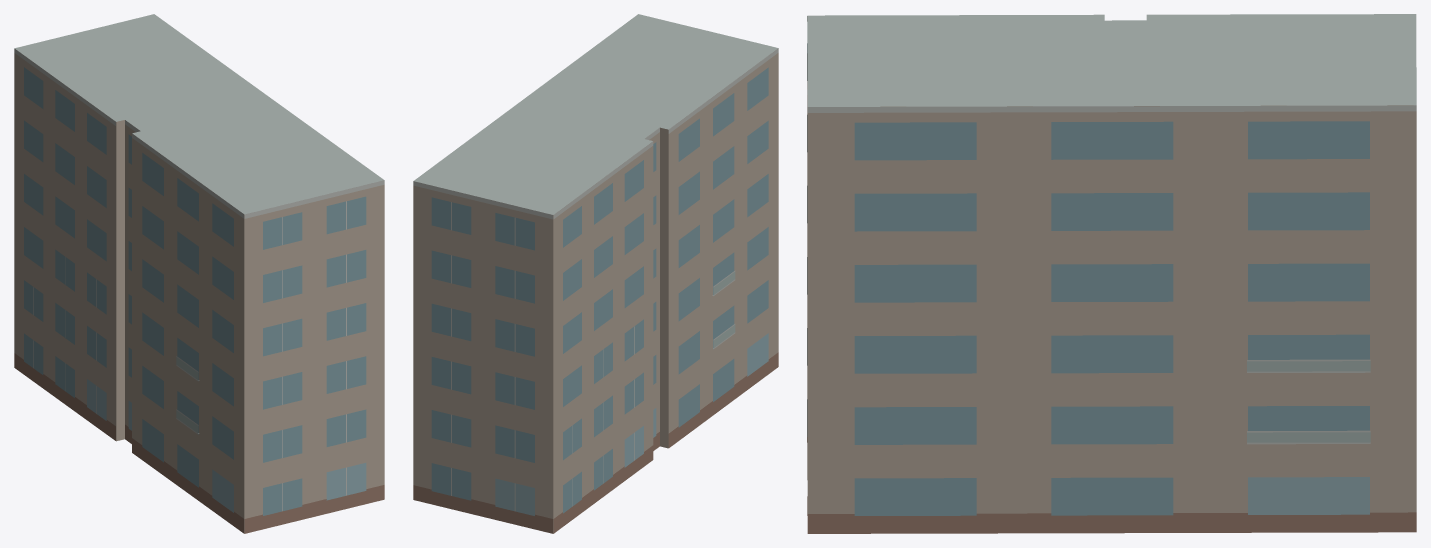
File: survey-upis-32744048.glb
3 renders of one model, left to right at view 1: azimuth 30°, elevation 25°; view 2: azimuth 150°, elevation 25°; view 3: azimuth 270°, elevation 25°, orthographic. The views are drawn at different scales.
Visible parts, largest first — view 1: survey-upis-32744048.tmp; view 2: survey-upis-32744048.tmp; view 3: survey-upis-32744048.tmp.
Boxes of the visible parts, box(x1,y1,x2,y2) form: survey-upis-32744048.tmp: box(14, 14, 384, 533); survey-upis-32744048.tmp: box(413, 14, 778, 533); survey-upis-32744048.tmp: box(807, 14, 1416, 533).
Size of the model in its own units: 8.14 by 17.4 by 22.52.
